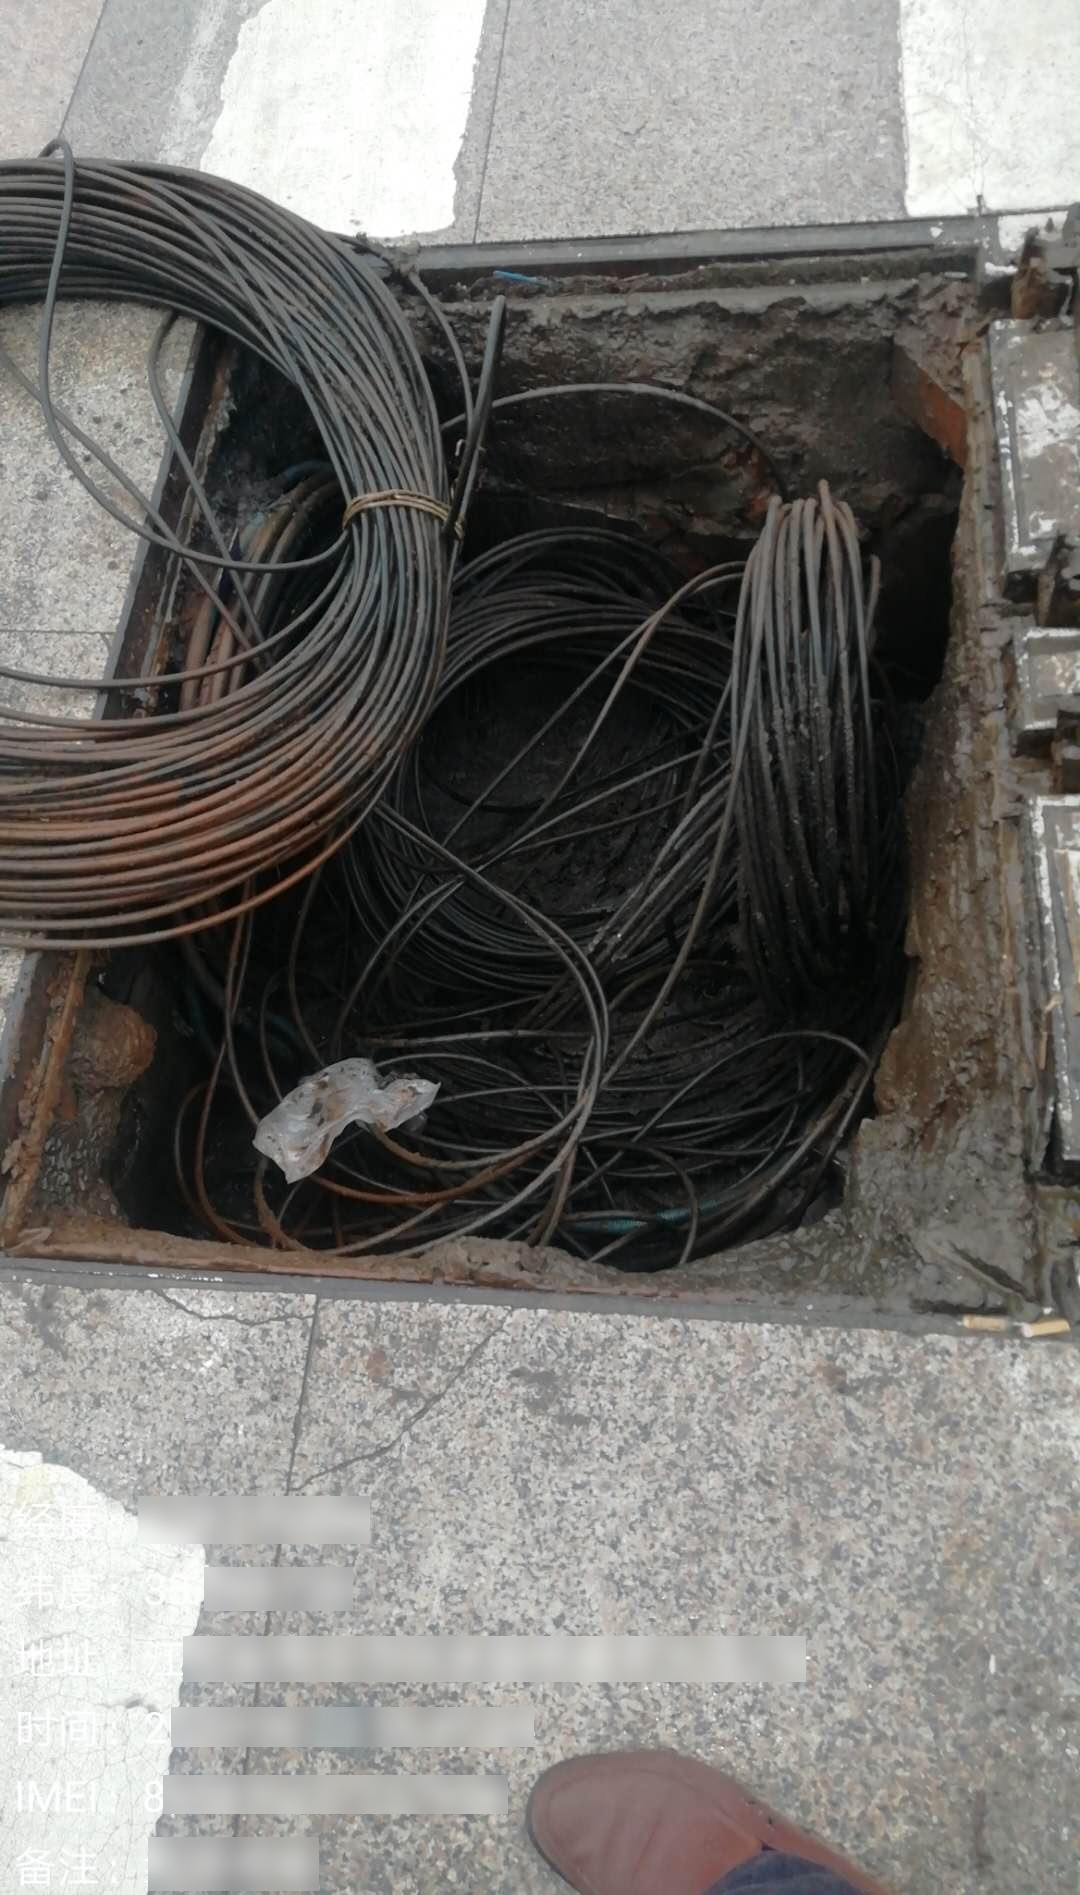well: (0, 157, 1070, 1316)
